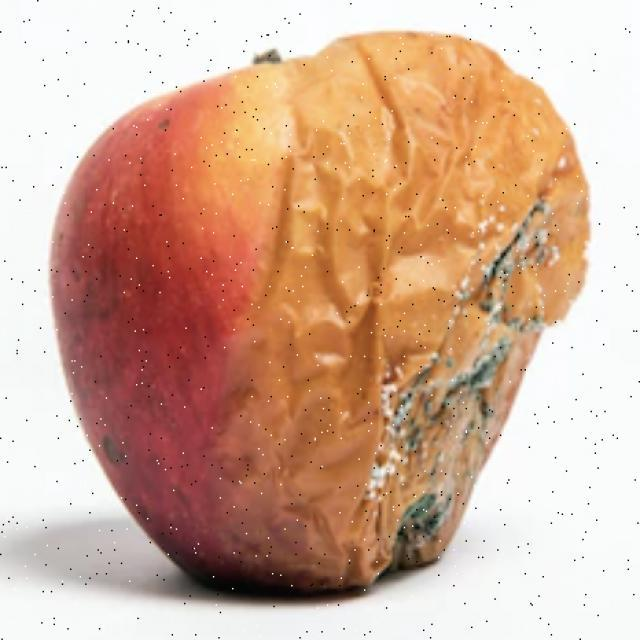Rotten: (55, 49, 590, 594)
